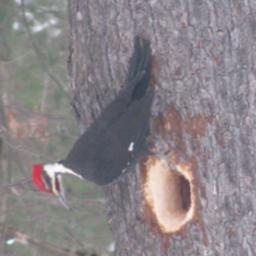Woodpecker: (28, 34, 183, 210)
